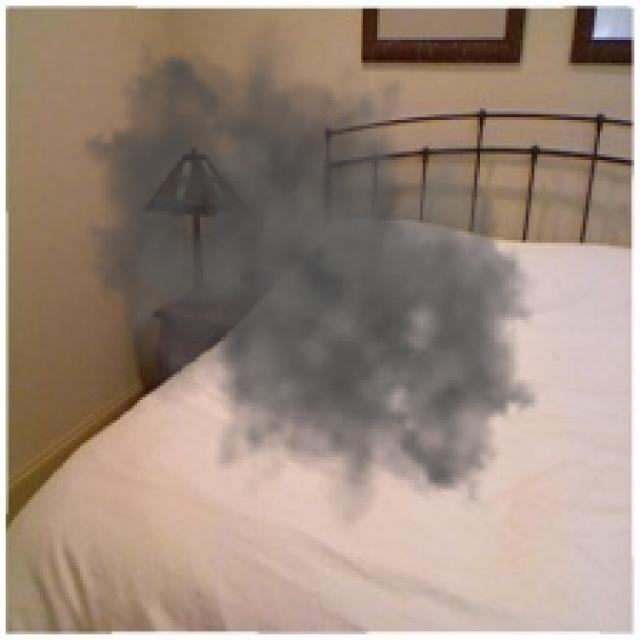smoke: (49, 14, 572, 532)
